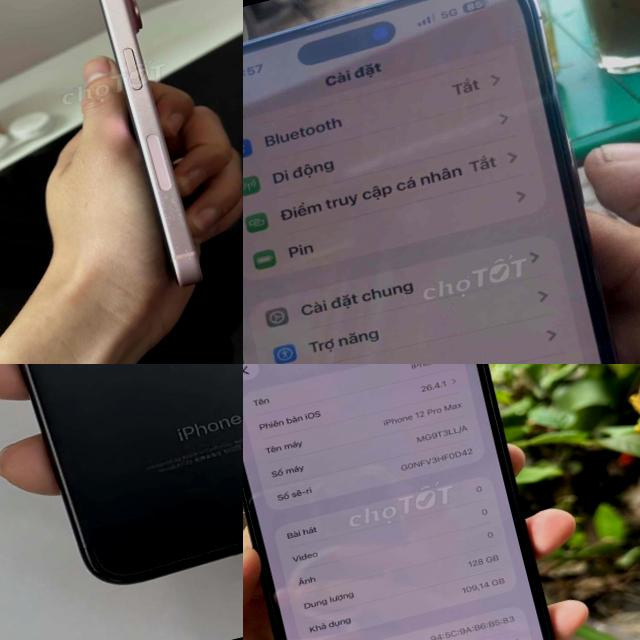gen_12_13: (243, 364, 594, 640)
gen_14: (243, 0, 640, 364)
gen_15: (56, 0, 236, 298)
gen_7_8: (0, 364, 243, 599)
